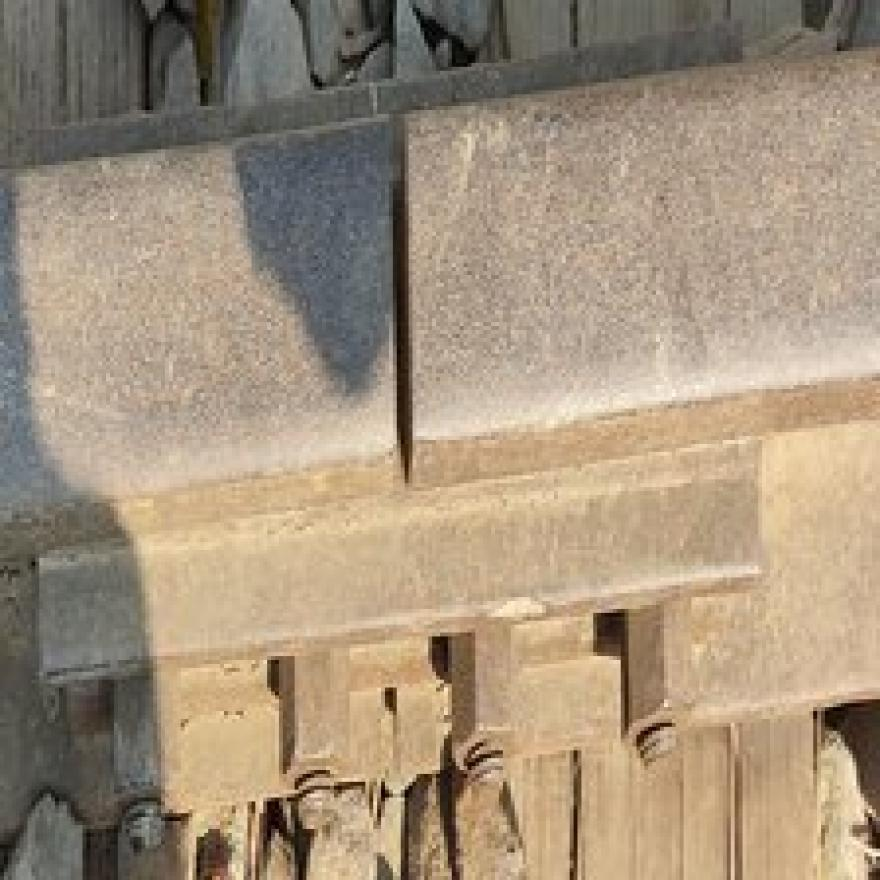railway-gap: (135, 69, 665, 544)
